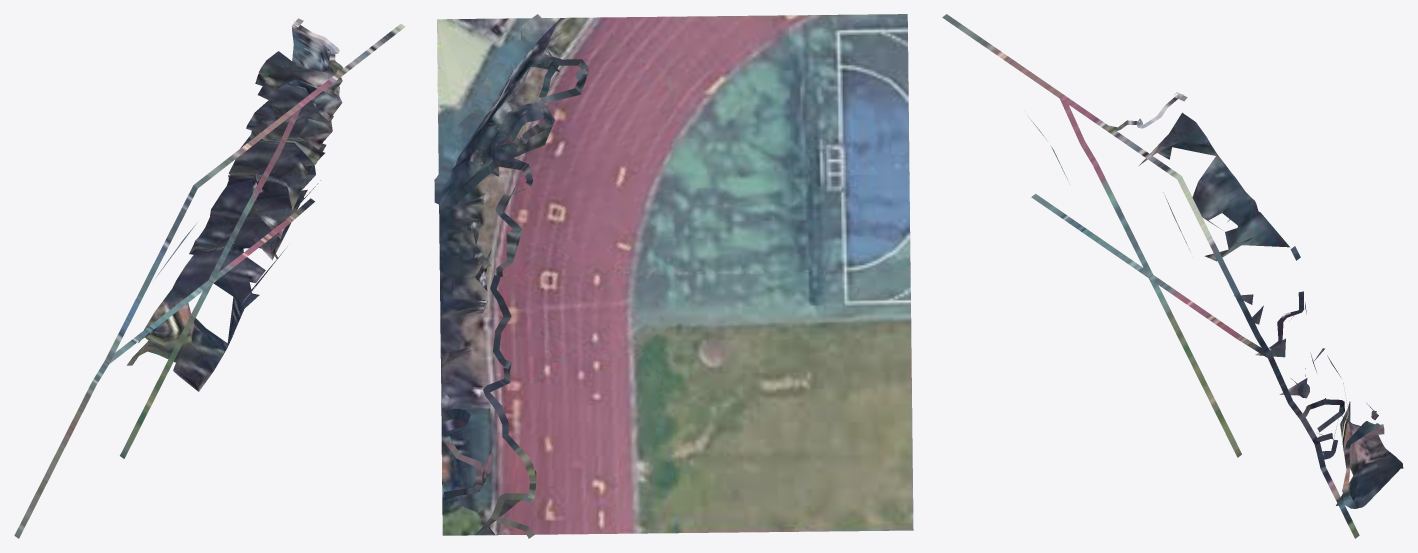
3 views of the same model, side by side, from view 1: azimuth 30°, elevation 25°; view 2: azimuth 150°, elevation 25°; view 3: azimuth 270°, elevation 25° (orthographic). The views are drawn at different scales.
Size of the model in its own units: 38.26 by 37.37 by 35.59.
1 material, 1 textured.
